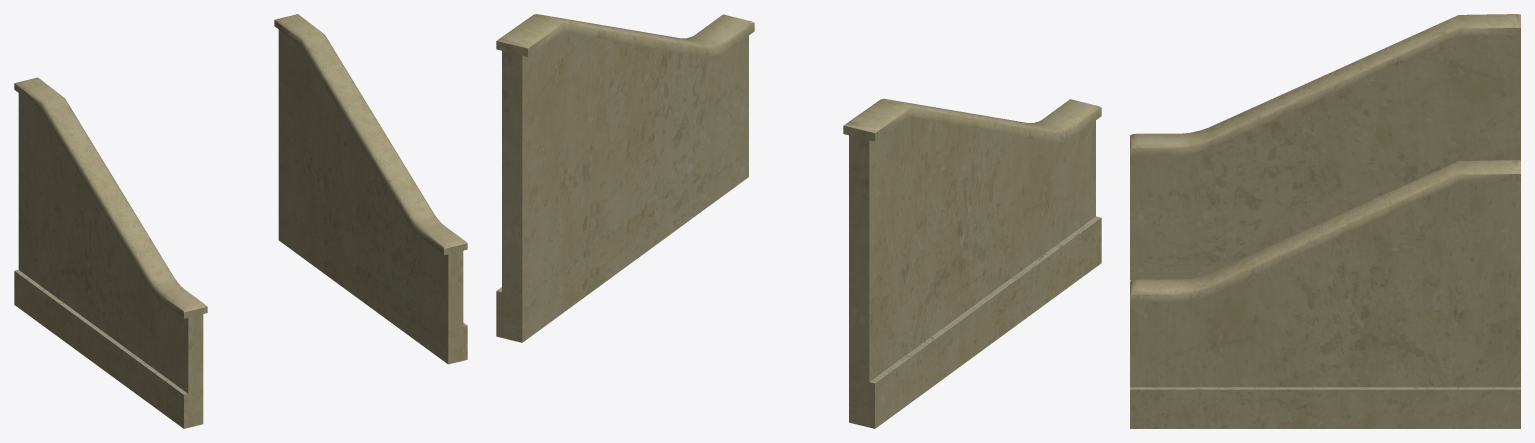
File: Stairs_Rails_Marble.gltf
3 views of the same model, side by side, from view 1: azimuth 30°, elevation 25°; view 2: azimuth 150°, elevation 25°; view 3: azimuth 270°, elevation 25° (orthographic). The views are drawn at different scales.
Parts seen in each view (by area): view 1: Stairs_Rails_Marble; view 2: Stairs_Rails_Marble; view 3: Stairs_Rails_Marble.
Part boxes in pixels (left/top/right/bottom): Stairs_Rails_Marble: left=14, top=14, right=467, bottom=428; Stairs_Rails_Marble: left=496, top=14, right=1101, bottom=428; Stairs_Rails_Marble: left=1130, top=14, right=1520, bottom=428.
Size of the model in its own units: 2.32 by 1.74 by 2.4.
1 material, 1 textured.
